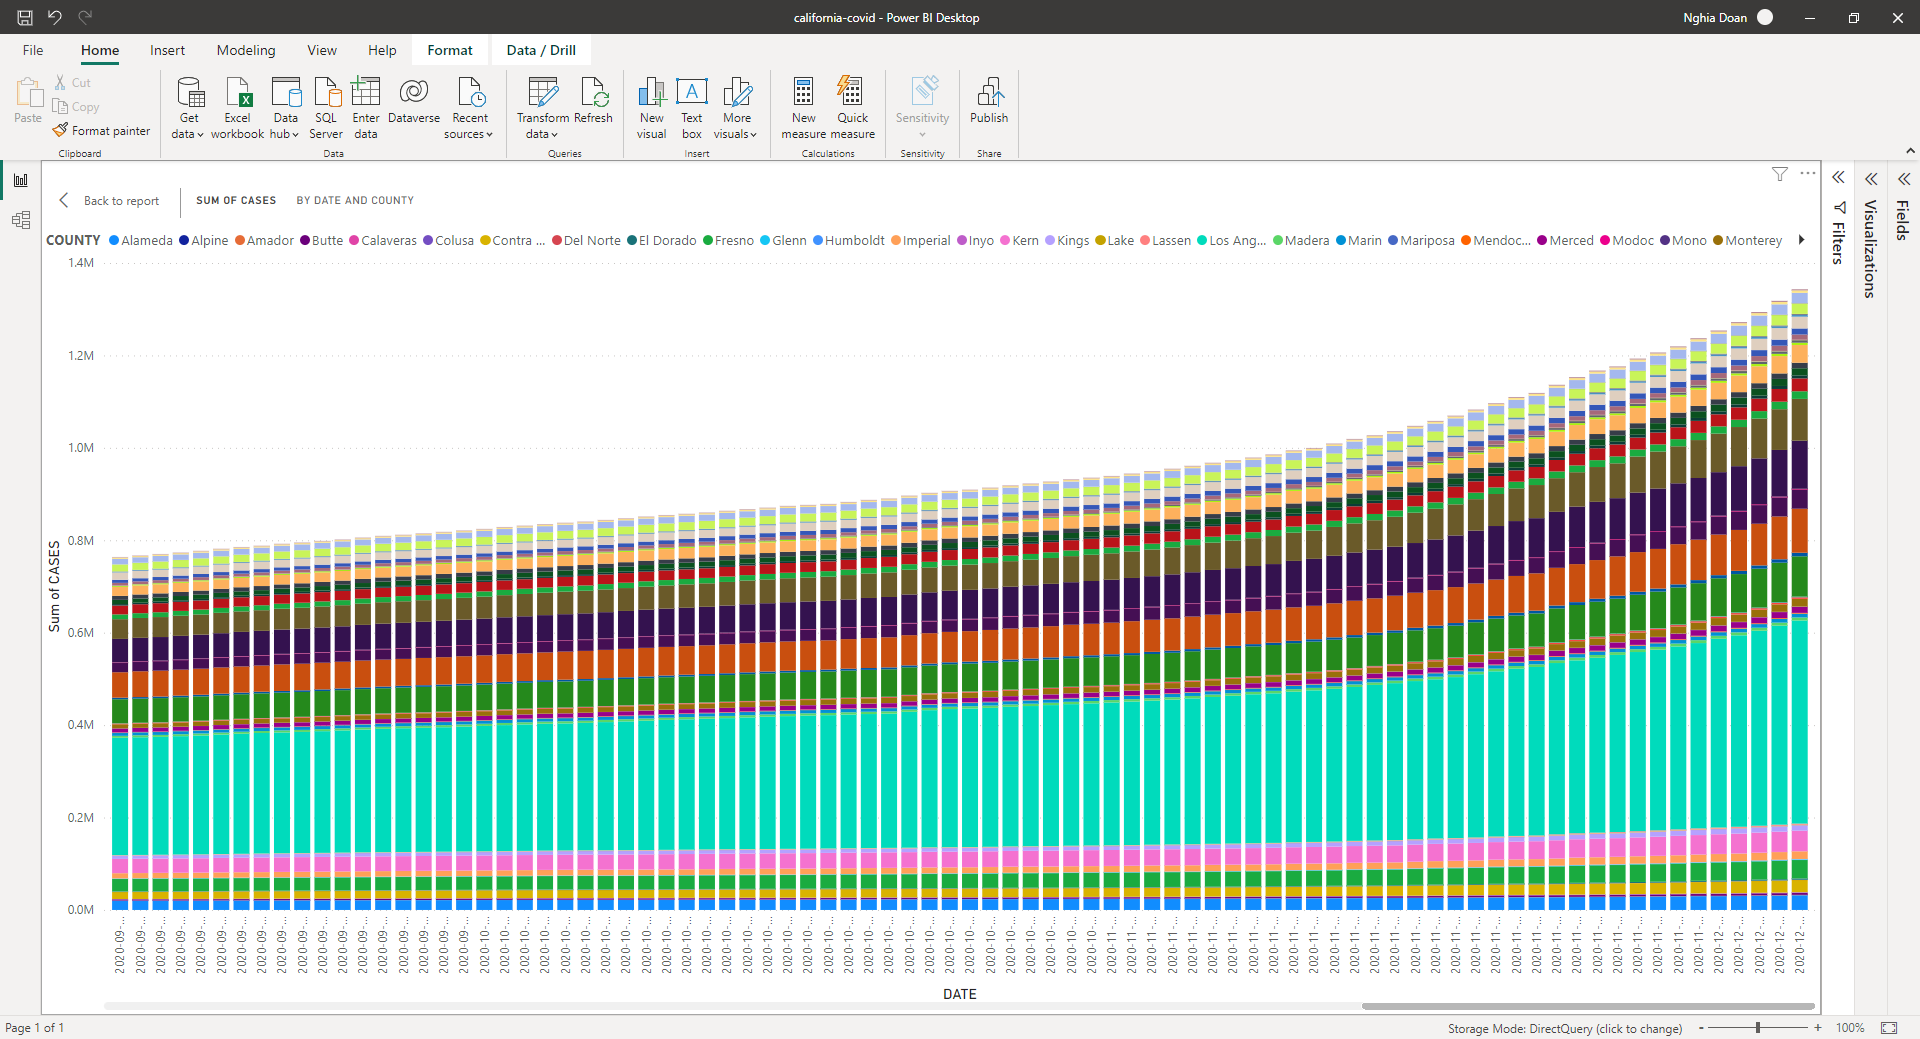

The page's visual inventory and layout, read from the dashboard file:
{"tool":"powerbi","page":{"name":"Page 1","canvas":[1280,720],"ordinal":0},"visuals":[{"type":"columnChart","fields":{"Y":["Sum(public CALIFORNIA_COVID.CASES)"],"Category":["public CALIFORNIA_COVID.DATE"],"Series":["public CALIFORNIA_COVID.COUNTY"]},"box":[9.9,0,1270.1,720],"z":0},{"type":"actionButton","box":[0,0,100,40],"z":1}]}

Visuals, with their boxes on the page's 1280x720 design canvas (x1, y1, x2, y2). These are canvas units, not pixel positions in the 1920x1039 screenshot, which may show the page scaled, cropped or inside an application window:
columnChart - Sum(public CALIFORNIA_COVID.CASES) x public CALIFORNIA_COVID.DATE: locate(10, 0, 1280, 720)
actionButton: locate(0, 0, 100, 40)
